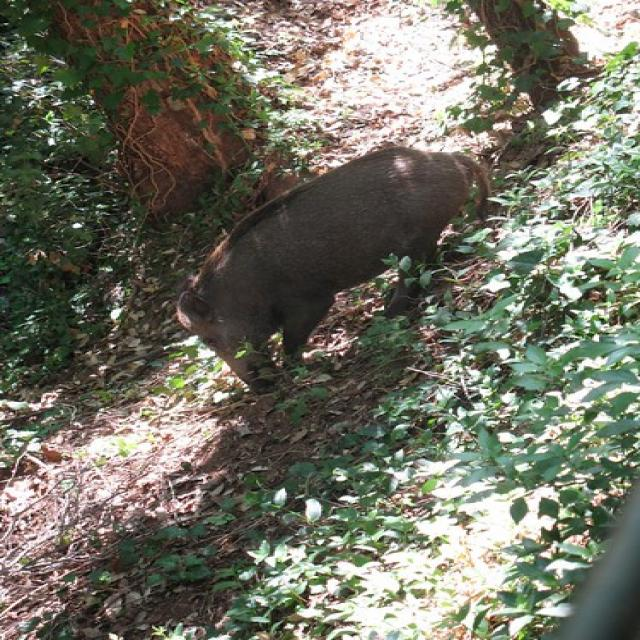boar: (132, 121, 548, 397)
